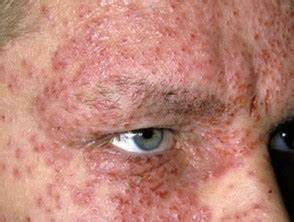Eksim: (15, 1, 294, 222)
